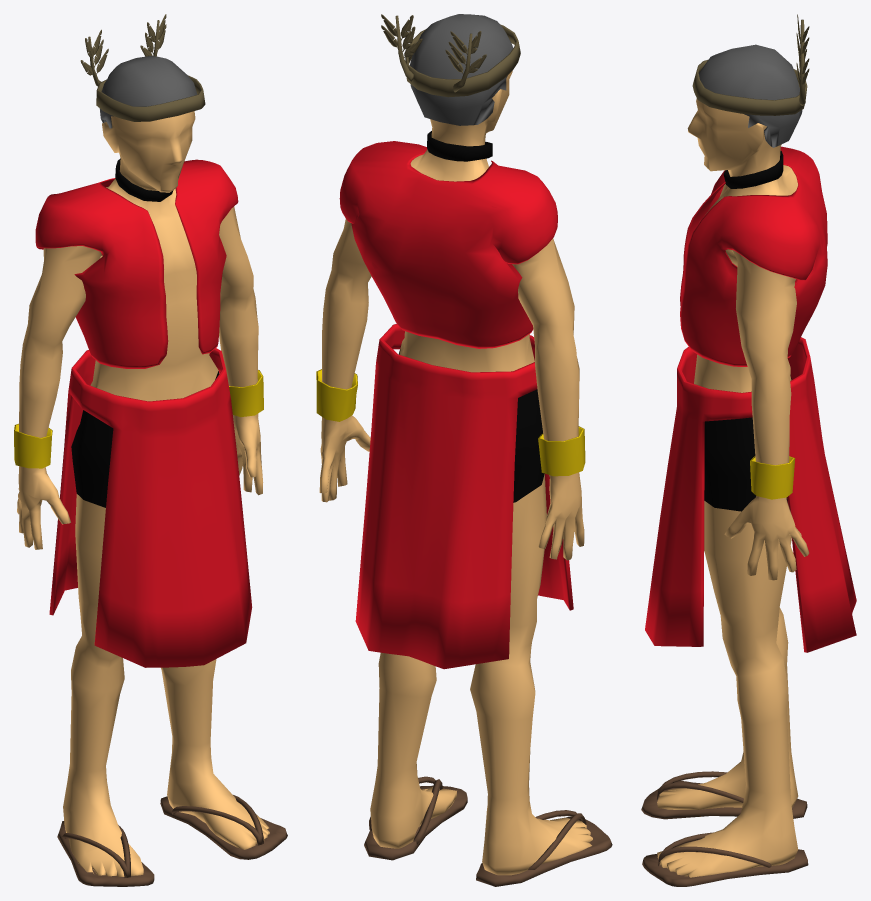
Rendered from Pangat Ubay.glb.
3 views of the same model, side by side, from view 1: azimuth 30°, elevation 25°; view 2: azimuth 150°, elevation 25°; view 3: azimuth 270°, elevation 25° (orthographic). The views are drawn at different scales.
Visible parts, largest first — view 1: polySurface53.016; view 2: polySurface53.016; view 3: polySurface53.016.
Part boxes in pixels (box(x1,y1,x2,y2)): polySurface53.016: box(14, 14, 287, 886); polySurface53.016: box(316, 14, 612, 886); polySurface53.016: box(641, 14, 856, 886).
Size of the model in its own units: 0.9755 by 3 by 0.7266.
8 materials, 1 textured.
